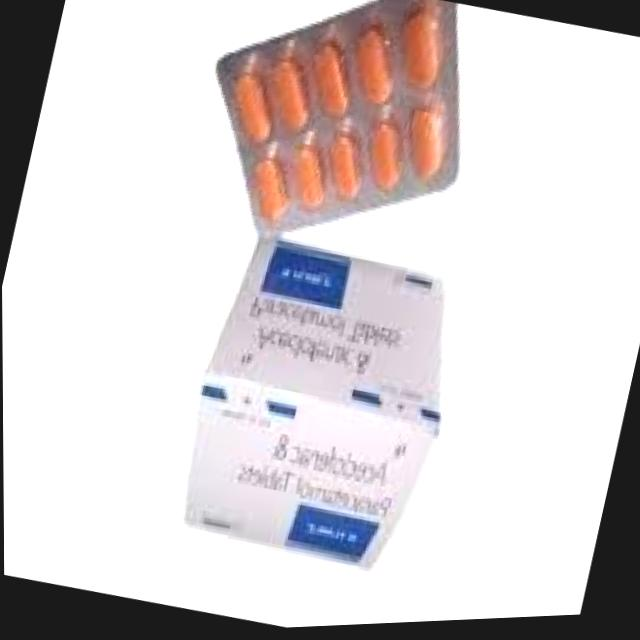medicine: (161, 230, 469, 581), (215, 0, 510, 275)
